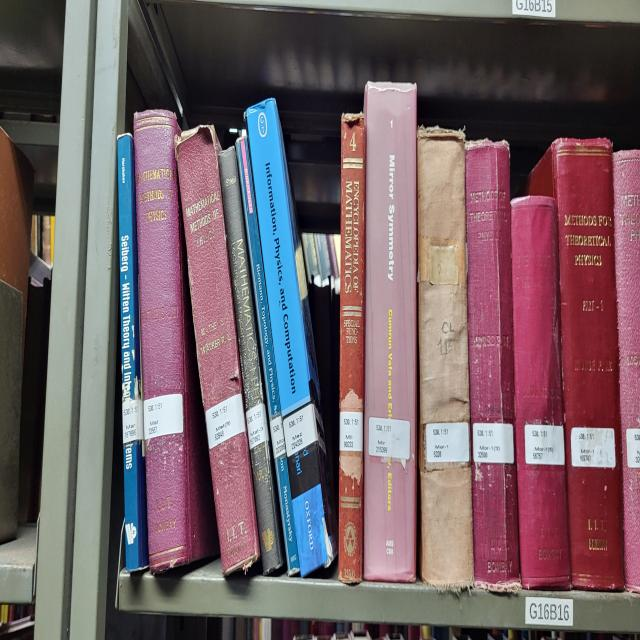Book: (526, 138, 624, 590), (246, 97, 338, 576), (134, 111, 219, 571), (175, 124, 260, 576), (219, 149, 285, 574), (418, 127, 474, 590), (364, 84, 416, 582), (465, 141, 520, 593), (511, 195, 571, 587), (118, 133, 149, 571), (339, 114, 365, 584)
Label: (572, 422, 618, 480), (366, 416, 414, 470), (425, 416, 472, 470), (524, 416, 566, 476), (280, 408, 328, 450), (144, 396, 186, 441), (204, 401, 243, 443), (474, 423, 515, 462), (118, 403, 142, 446), (342, 410, 362, 461), (246, 410, 268, 450)
